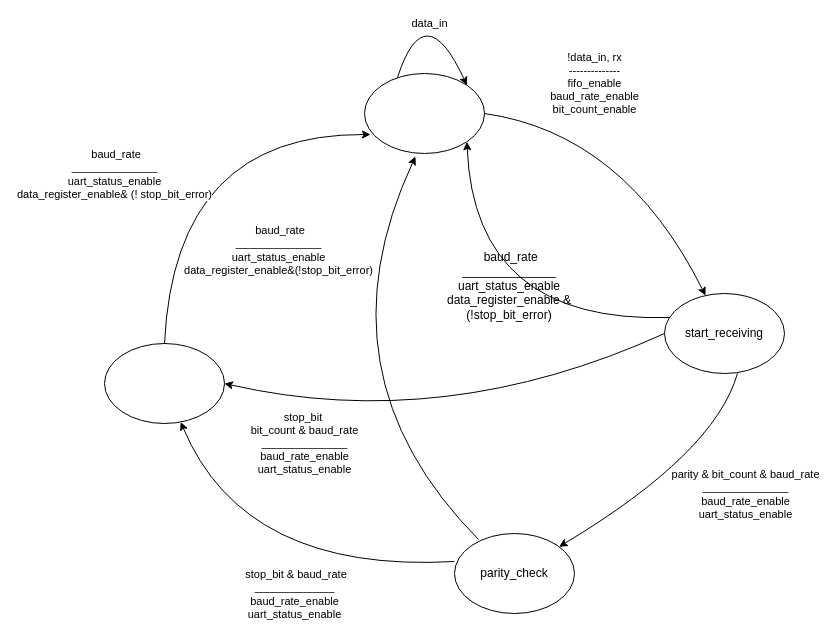
Some shapes in this 837 by 638 pixel diagram are drawn without their labels. The shapes that lost their labels are listed below. From the top down, each one's centre as x and y in pixels, then its label:
At point (424, 113): "ideal".
At point (164, 383): "stop_bit_check".
